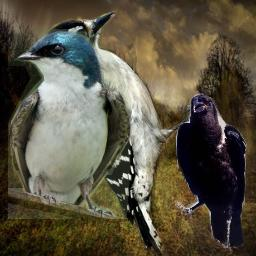Crow: (175, 93, 247, 252)
Swallow: (8, 29, 131, 219)
Woodpecker: (37, 11, 215, 256)
